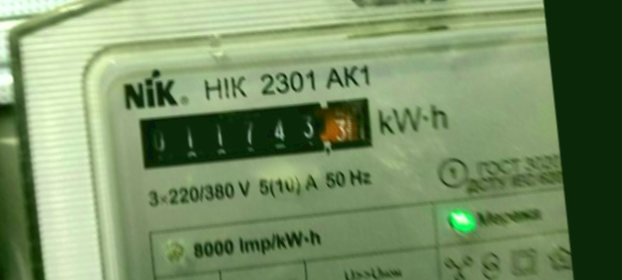0: (151, 125, 168, 154)
1: (211, 118, 226, 147), (183, 122, 195, 149)
3: (300, 111, 317, 140), (332, 117, 349, 143)
4: (270, 115, 287, 143)
7: (240, 115, 258, 144)
screen: (127, 82, 386, 183)
